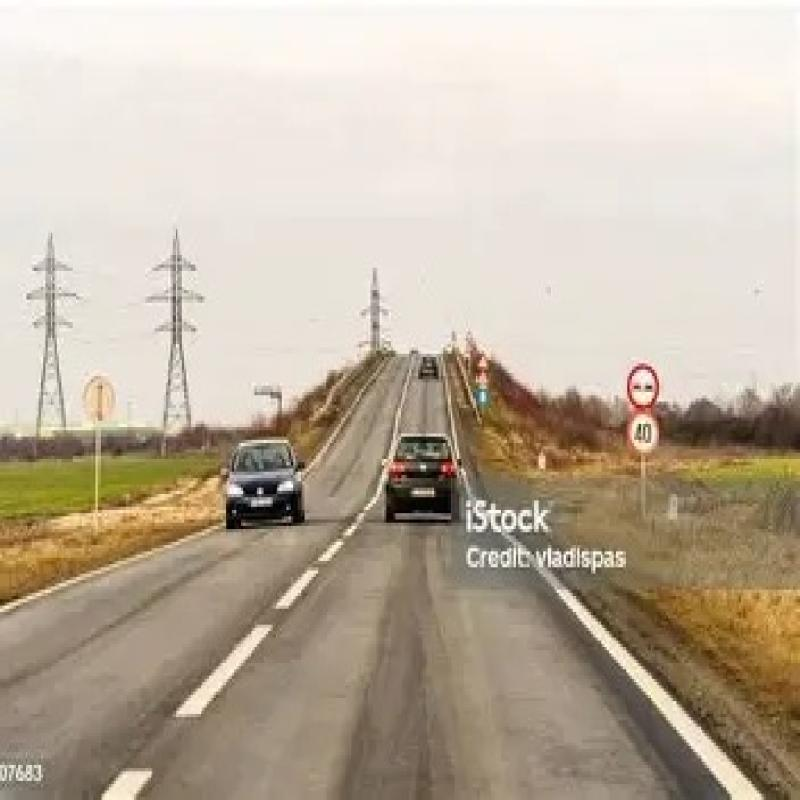license plate on a car: (410, 475, 440, 508), (252, 492, 276, 513)
